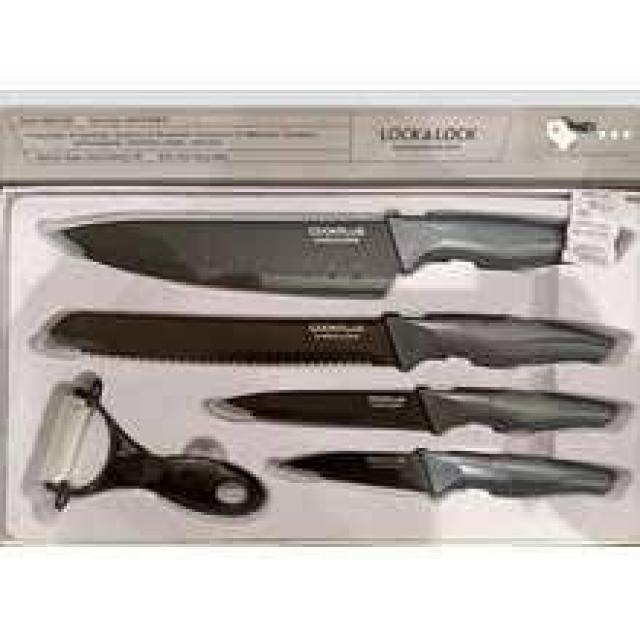knife: (44, 204, 627, 538)
